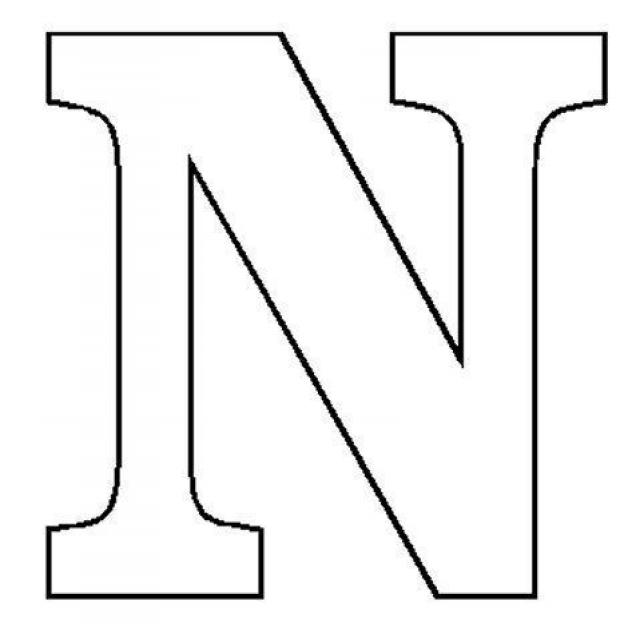N: (18, 8, 618, 621)
